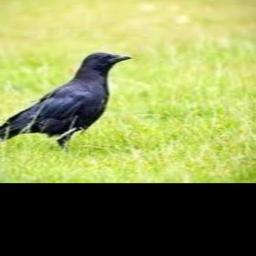Crow: (0, 52, 132, 156)
